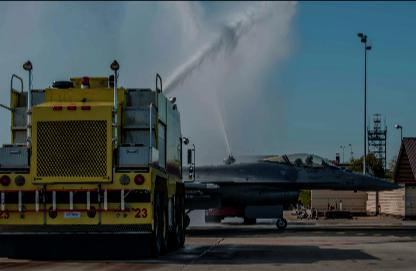F14: (182, 153, 414, 228)
